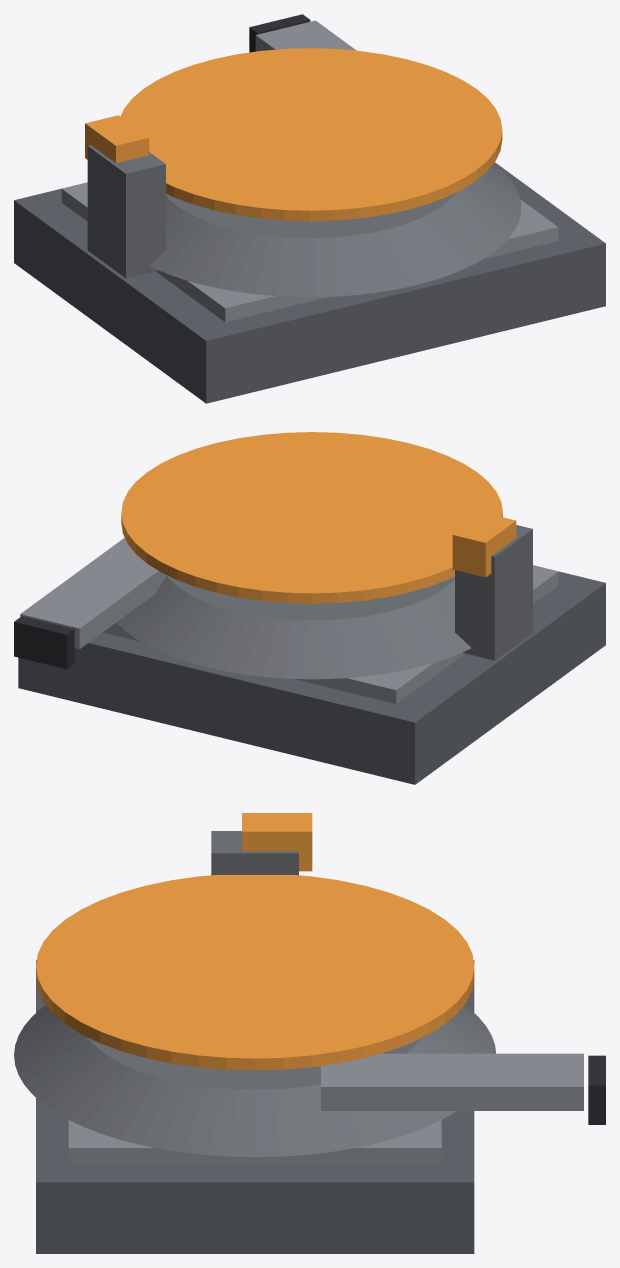
The model's file is feeder.glb.
3 renders of one model, top to bottom at view 1: azimuth 30°, elevation 25°; view 2: azimuth 150°, elevation 25°; view 3: azimuth 270°, elevation 25°, orthographic. The views are drawn at different scales.
Visible parts, largest first — view 1: feeder; view 2: feeder; view 3: feeder.
Boxes of the visible parts, x1,y1,x2,y2 form: feeder: (14, 14, 605, 403); feeder: (14, 432, 605, 784); feeder: (14, 813, 605, 1253).
Bounding box in the file's own units: 1.21 × 0.55 × 1.35.
